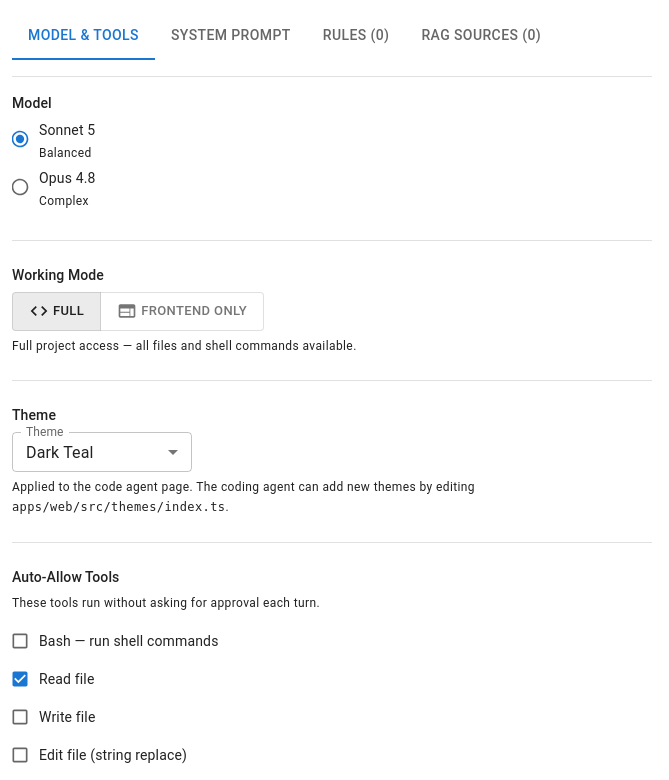
Test: AgentConfigEditor › switches to the System Prompt tab and shows the loaded prompt
Click the tab "System Prompt".
click(231, 36)  # box [155, 12, 307, 60]
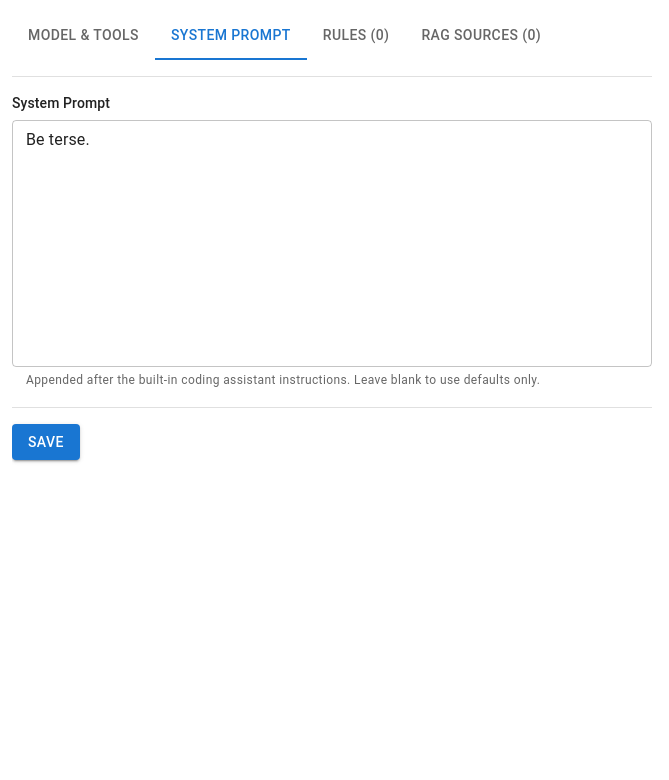
Expected: the text box named "System prompt" holds "Be terse.", [26, 128, 638, 358]
